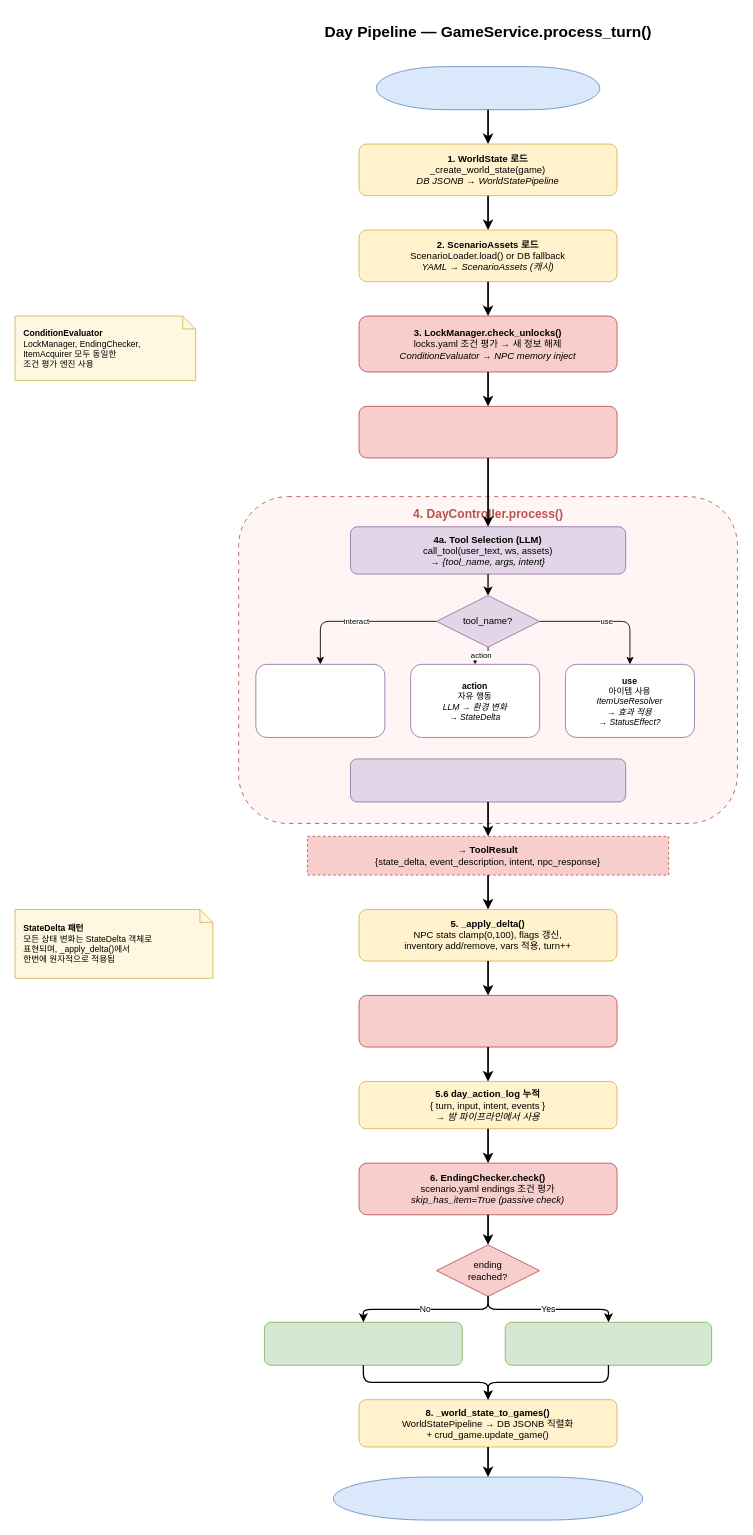
Some shapes in this 753 by 1535 pixel diagram are drawn without their labels. Here are the shapes that lost their labels. From the top down, the centre of each, then its label:
pixel 487 88: POST /v1/game/{id}/step StepRequestSchema
pixel 487 431: 3.5 StatusEffectManager.tick() 시간제 효과 만료 체크 SLEEPING/MISSING 상태 복구
pixel 320 700: interact NPC 대화 retrieve_memories() → LLM → NPC 응답 → postprocess()
pixel 488 780: 4c. RuleEngine apply_memory_rules(intent) merge_rule_delta()
pixel 487 1021: 5.5 ItemAcquirer.scan() method='auto' 아이템 조건 확인 조건 충족 시 자동 획득 + delta 적용
pixel 363 1343: NarrativeLayer.render() 일반 턴 내러티브 생성 (LLM)
pixel 608 1343: NarrativeLayer.render_ending() 엔딩 내러티브 생성 (LLM)
pixel 487 1498: Return StepResponseSchema { narrative, ending_info, state_result, debug }
